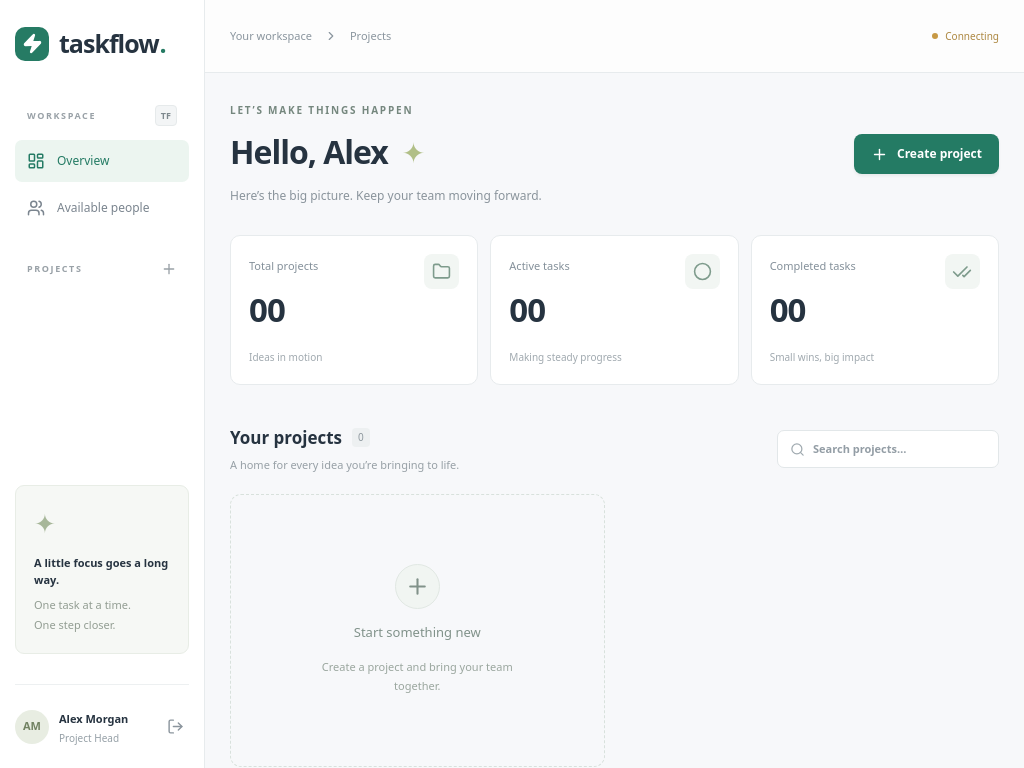
it: Critical frontend flows › restores a head session and creates a project through the form
Expected: the heading "Hello, Alex ✦" is shown, [230,130,424,173]
Click the button "Create project" at (926, 154), box [854,134,999,174]
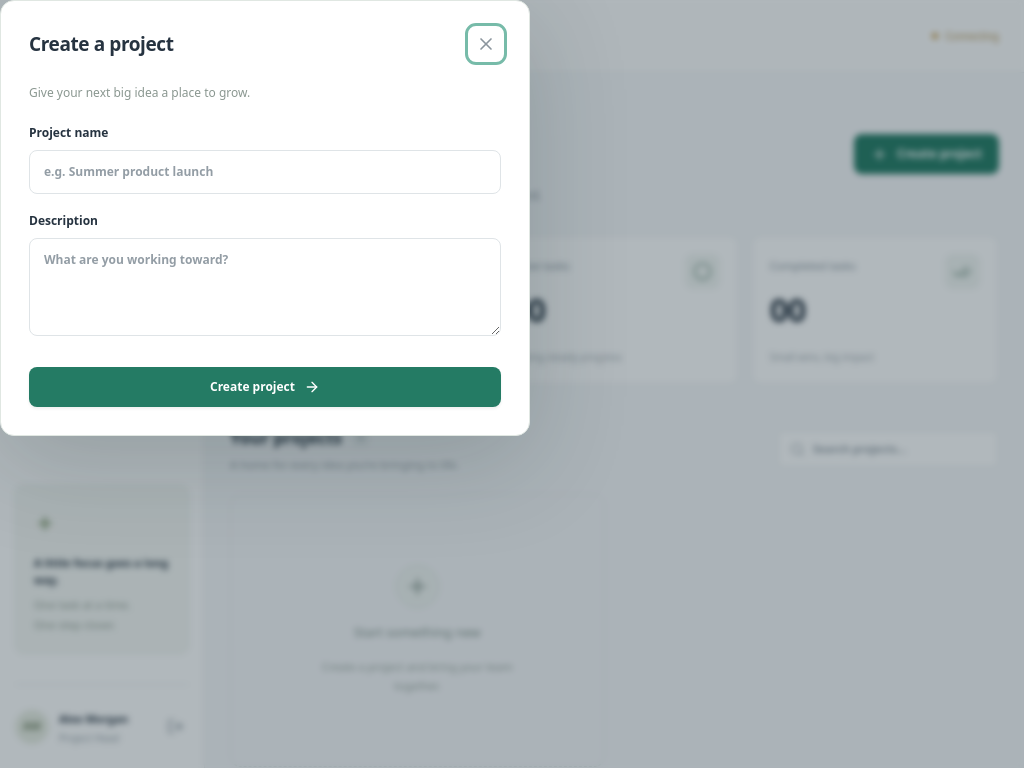
Type "A new launch" into the field labelled "Project name" at (265, 172), box [29,150,501,194]
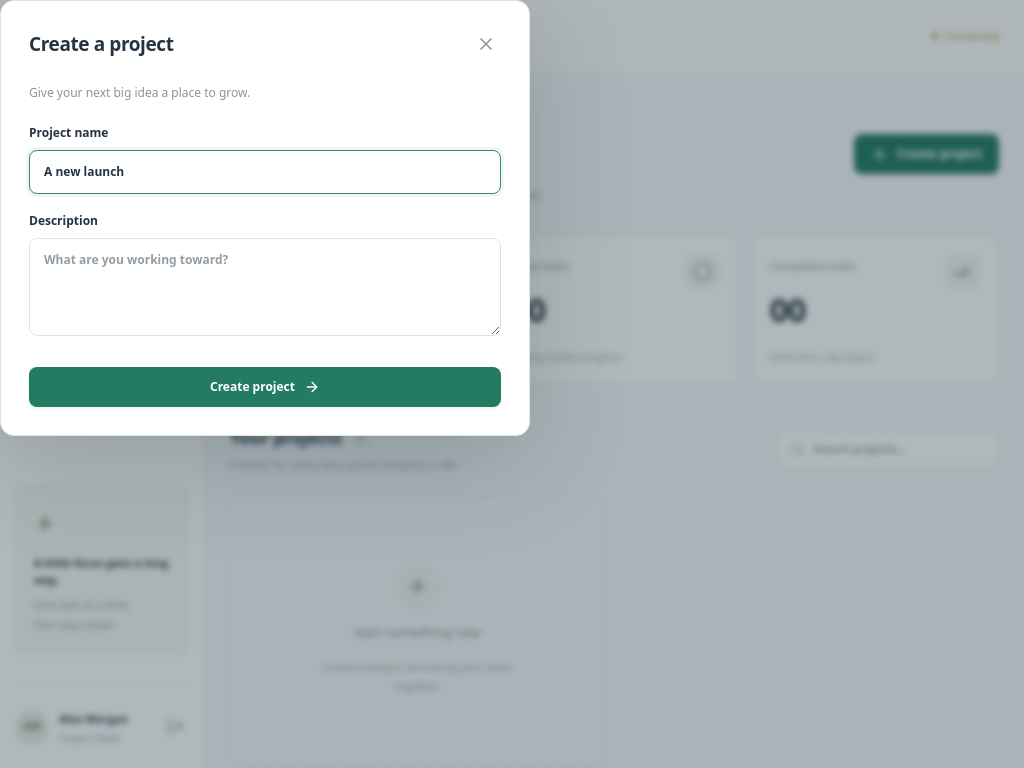
Type "Make a useful thing" into the text box labelled "Description" at (265, 287), box [29,238,501,336]
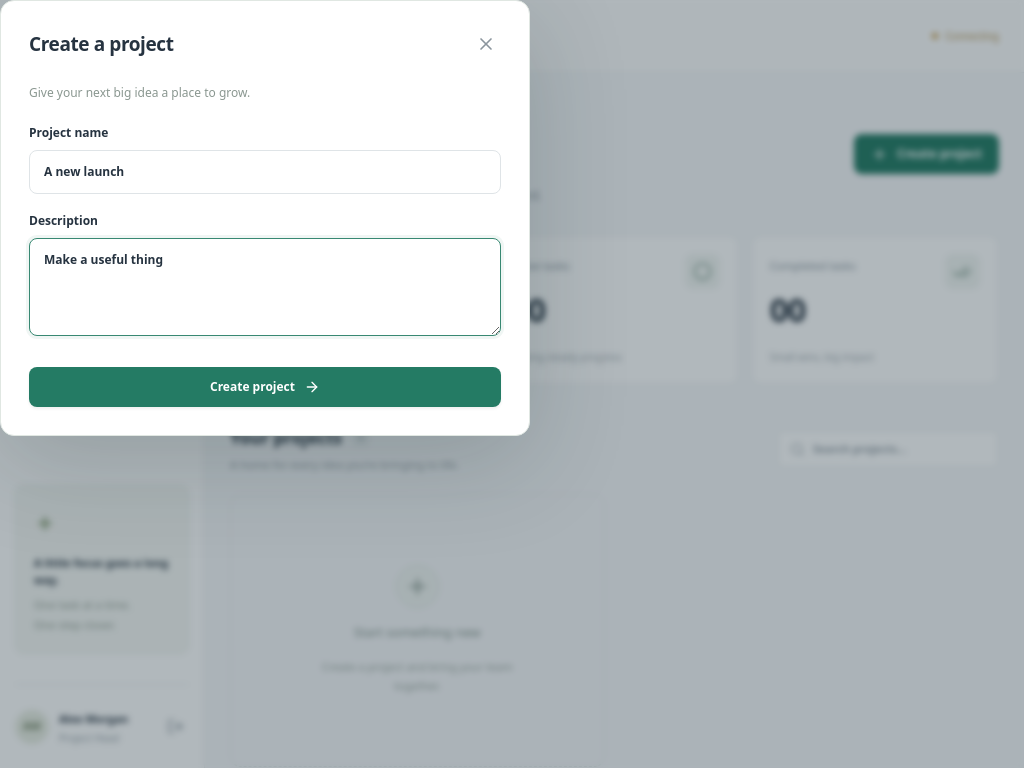
Click the button "Create project" at (265, 387), box [29,367,501,407]
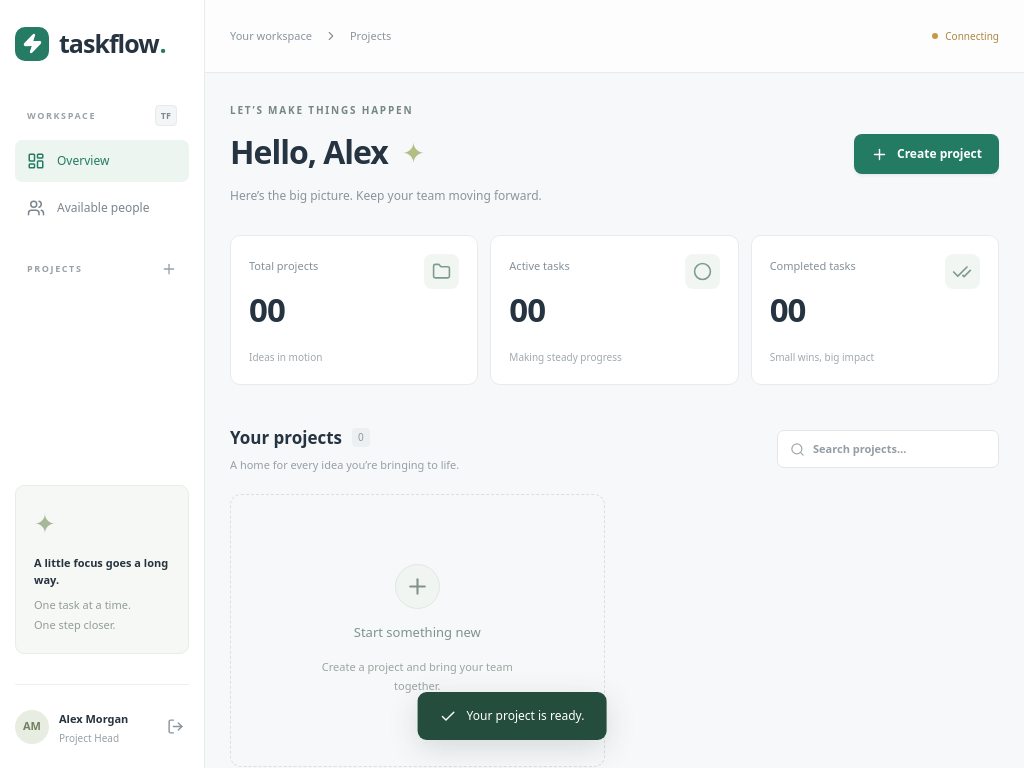
Expected: the message shows "ready", [467,707,584,724]
